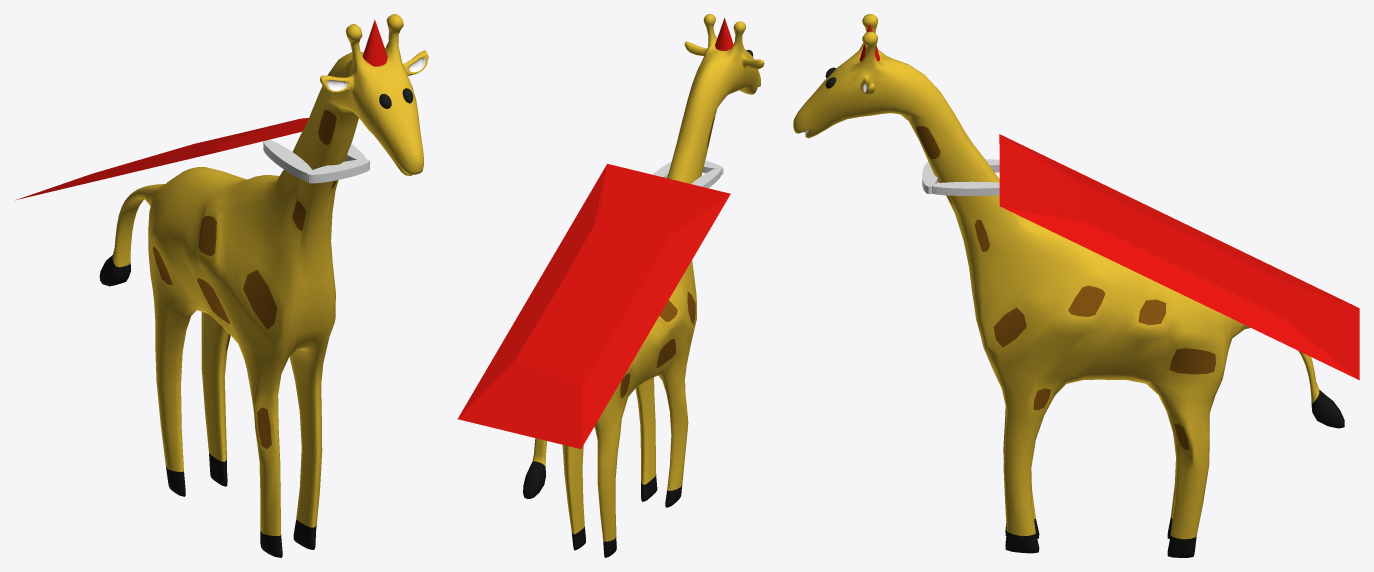
The model's file is giraffe_superheld.glb.
3 renders of one model, left to right at view 1: azimuth 30°, elevation 25°; view 2: azimuth 150°, elevation 25°; view 3: azimuth 270°, elevation 25°, orthographic. The views are drawn at different scales.
Visible parts, largest first — view 1: Plane, Cube, Cylinder, Cylinder.001, Cone.002; view 2: Cube, Plane; view 3: Plane, Cube, Cylinder.002.
Part boxes in pixels (left/top/right/bottom): Plane: left=99, top=14, right=428, bottom=557; Cube: left=15, top=118, right=308, bottom=200; Cylinder: left=307, top=159, right=369, bottom=183; Cylinder.001: left=263, top=139, right=311, bottom=181; Cone.002: left=362, top=19, right=387, bottom=66; Cube: left=457, top=164, right=730, bottom=448; Plane: left=523, top=14, right=764, bottom=557; Plane: left=793, top=14, right=1344, bottom=557; Cube: left=999, top=134, right=1359, bottom=380; Cylinder.002: left=932, top=181, right=999, bottom=195.
Bounding box in the file's own units: 0.7023 × 2.38 × 2.32.
